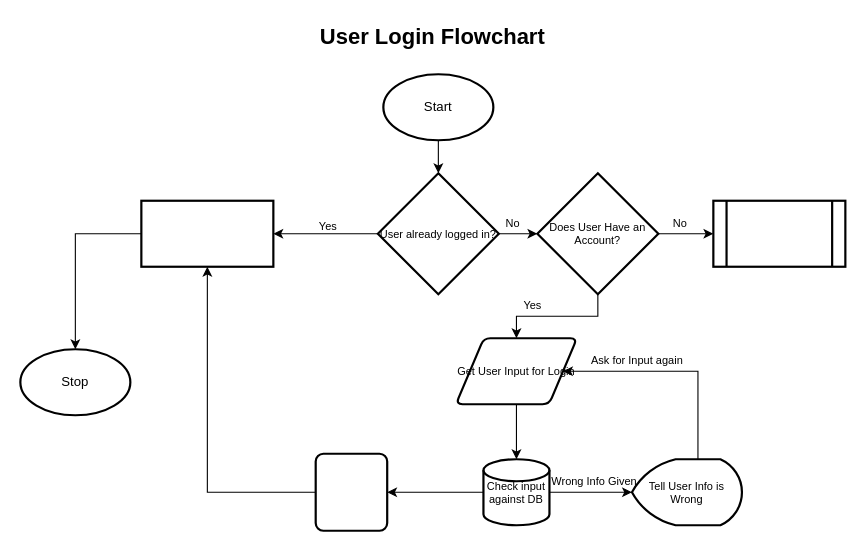
This 865x550 diagram has some shape labels left out. The box of each missing label's shape, as (x1, y1, x2, y2) in pixels:
Go back to main page: (140, 199, 274, 267)
Go to user registration page: (712, 199, 846, 267)
User info was correct. Create login session: (314, 452, 388, 531)
